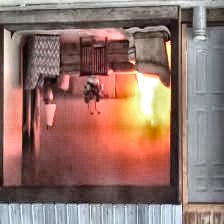fire: (129, 83, 171, 129)
